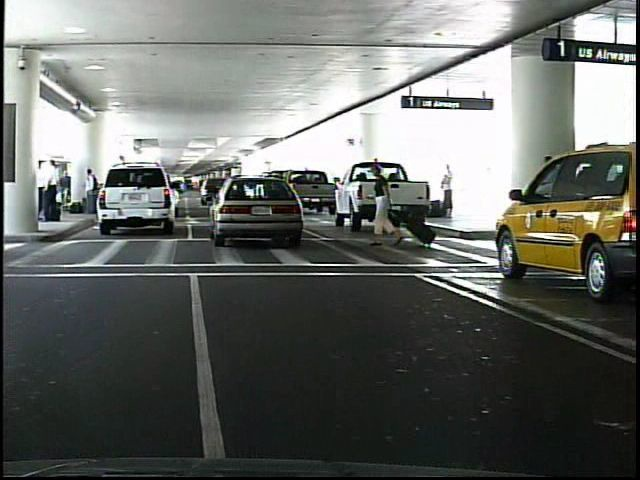person: (373, 162, 399, 250), (50, 160, 65, 225), (88, 166, 104, 221), (445, 160, 457, 217)
